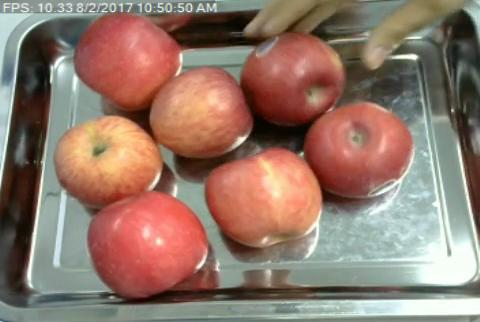apple: (87, 191, 208, 297), (205, 146, 323, 247), (304, 101, 413, 198), (74, 12, 180, 106), (53, 115, 162, 203), (242, 33, 346, 125), (148, 67, 251, 157)
